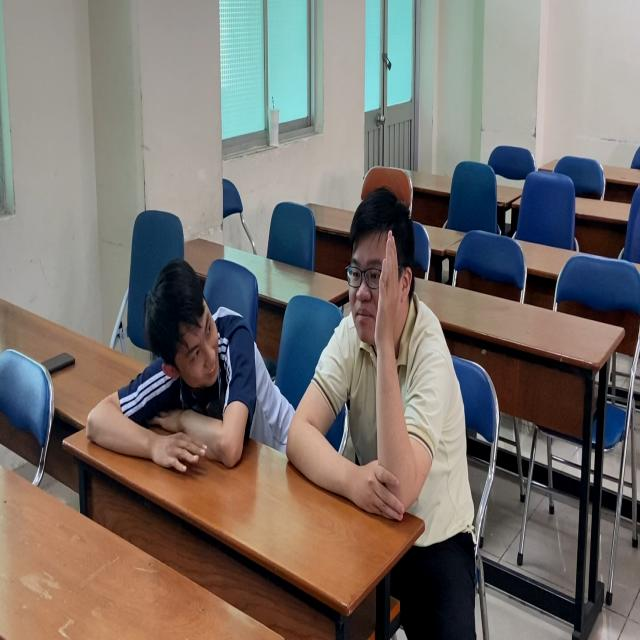raise_hand: (282, 171, 481, 536)
